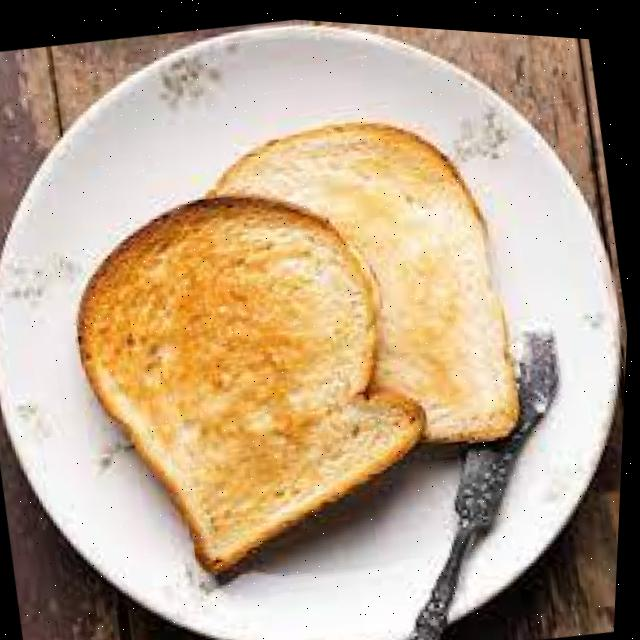Bread: (81, 195, 428, 567), (211, 117, 522, 431)
